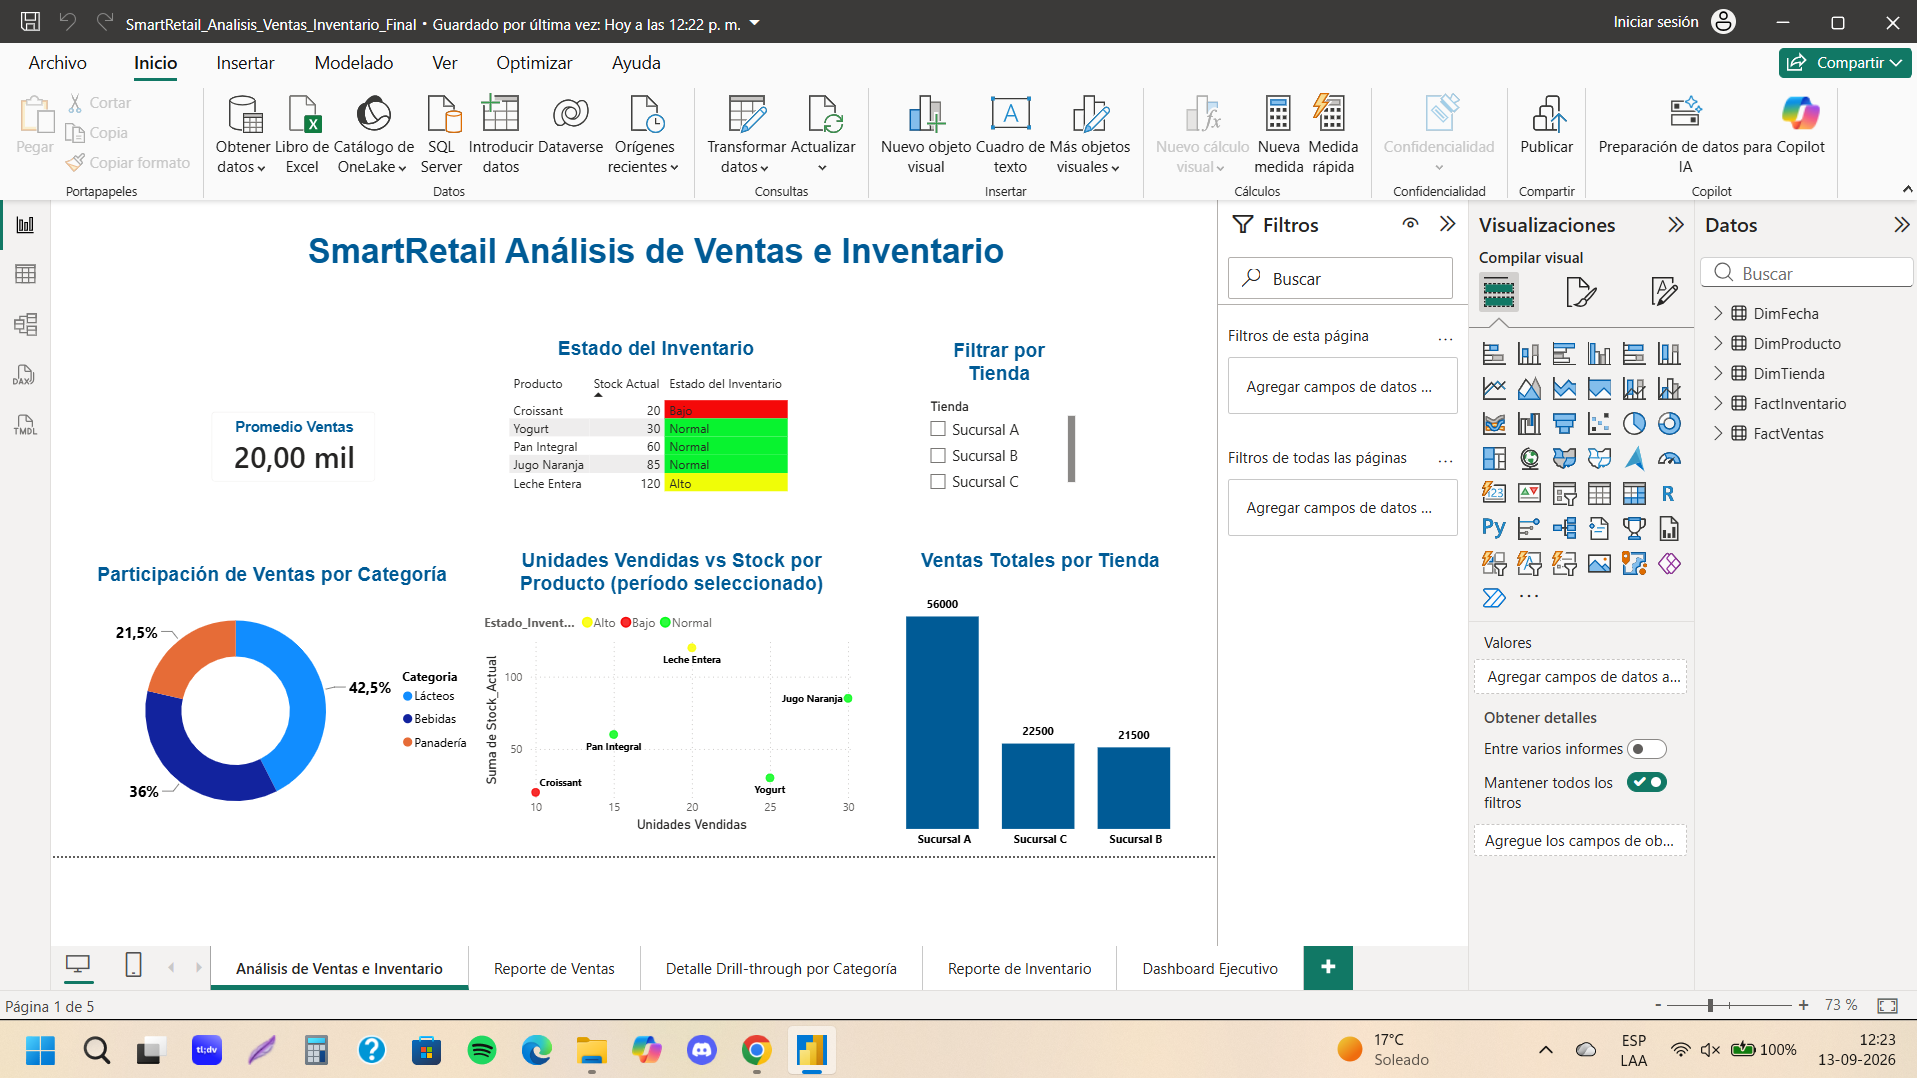

This screenshot's page, from the dashboard's own definition file:
{"tool":"powerbi","page":{"name":"Análisis de Ventas e Inventario","canvas":[1280,720],"ordinal":0},"visuals":[{"type":"tableEx","title":"Estado del Inventario","fields":{"Values":["inventario.Producto","inventario.Stock_Actual","inventario.Estado_Inventario"]},"box":[496.7,150.9,334.8,177],"z":0},{"type":"slicer","title":"Filtrar por Tienda","fields":{"Values":["DimTienda.Tienda"]},"box":[952.3,153.7,177,172.9],"z":1000},{"type":"clusteredColumnChart","title":"Ventas Totales por Tienda","fields":{"Y":["ventas.Ventas Totales"],"Category":["ventas.Tienda"]},"box":[891.9,384.2,388.3,336.2],"z":2000},{"type":"cardVisual","title":"Promedio de Ventas","fields":{"Data":["ventas.Promedio Ventas"]},"box":[159.2,215.4,214.1,111.1],"z":3000},{"type":"donutChart","title":"Participación de Ventas por Categoría","fields":{"Category":["DimProducto.Categoria"],"Y":["FactVentas.Participación % Ventas"]},"box":[15.1,384.2,455.6,314.2],"z":4000},{"type":"textbox","box":[255.2,30.2,817.8,57.6],"z":5000},{"type":"scatterChart","title":"Unidades Vendidas vs Stock por Producto (período seleccionado)","fields":{"Category":["DimProducto.Producto"],"X":["FactVentas.Unidades Vendidas"],"Y":["Sum(FactInventario.Stock_Actual)"],"Series":["FactInventario.Estado_Inventario"]},"box":[470.7,384.2,421.3,314.2],"z":6000}]}

Visuals, with their boxes on the page's 1280x720 design canvas (x1, y1, x2, y2). These are canvas units, not pixel positions in the 1917x1078 screenshot, which may show the page scaled, cropped or inside an application window:
"Estado del Inventario" tableEx: box(497, 151, 832, 328)
"Filtrar por Tienda" slicer: box(952, 154, 1129, 327)
"Ventas Totales por Tienda" clusteredColumnChart: box(892, 384, 1280, 720)
"Promedio de Ventas" cardVisual: box(159, 215, 373, 326)
"Participación de Ventas por Categoría" donutChart: box(15, 384, 471, 698)
textbox: box(255, 30, 1073, 88)
"Unidades Vendidas vs Stock por Producto (período seleccionado)" scatterChart: box(471, 384, 892, 698)
